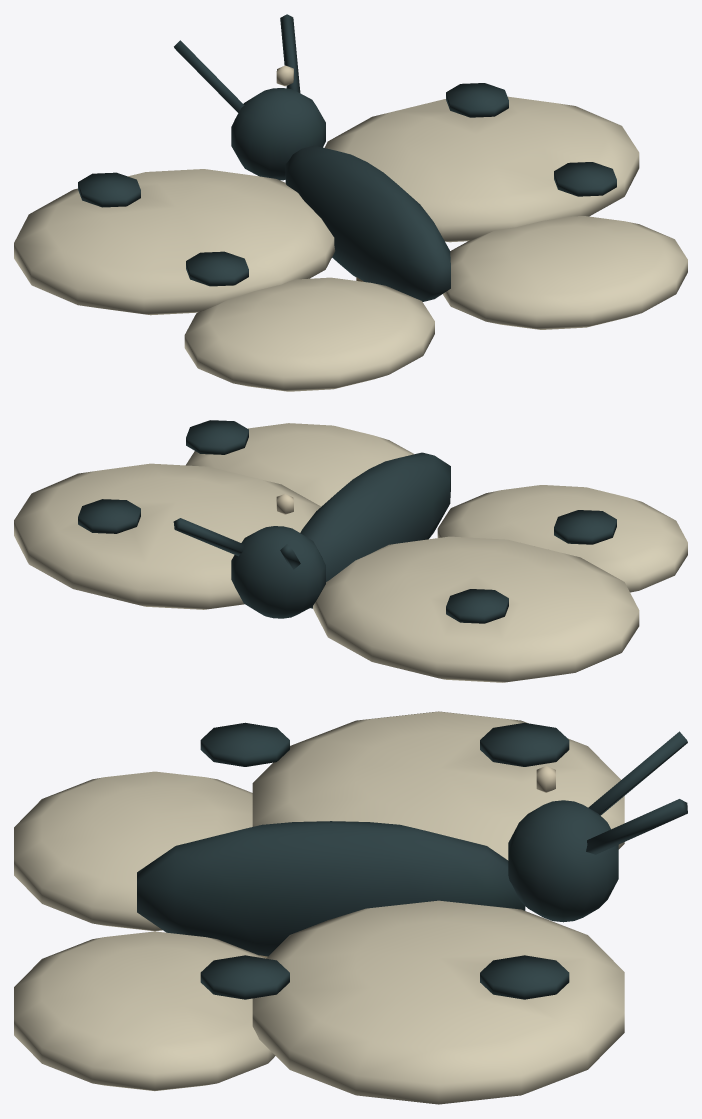
The model's file is insect_butterfly_cabbage.glb.
3 renders of one model, top to bottom at view 1: azimuth 30°, elevation 25°; view 2: azimuth 150°, elevation 25°; view 3: azimuth 270°, elevation 25°, orthographic. The views are drawn at different scales.
Bounding box in the file's own units: 0.2054 × 0.0537 × 0.1568.
